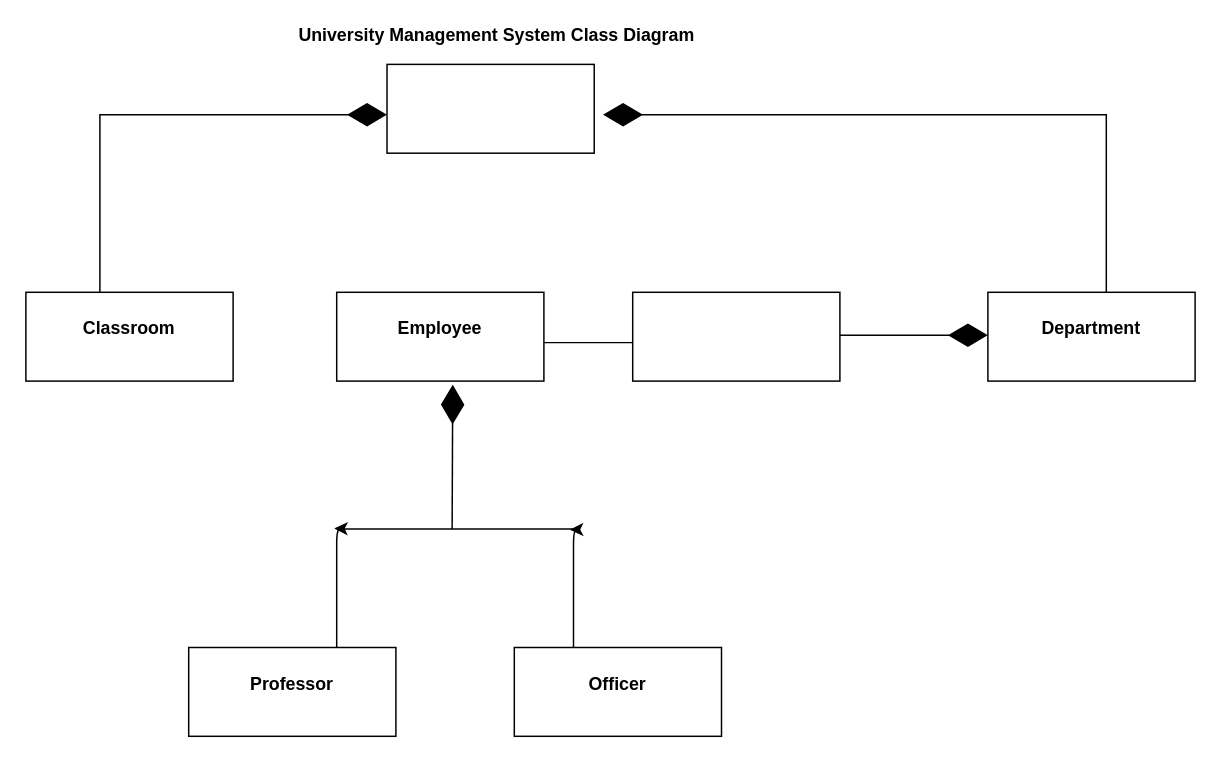
Some shapes in this 1221 by 762 pixel diagram are drawn without their labels. The shapes that lost their labels are listed below. From the top down, each one's box as (x1, y1, x2, y2) in pixels, then its label:
(386, 63, 594, 153): University
(631, 291, 840, 381): Office
